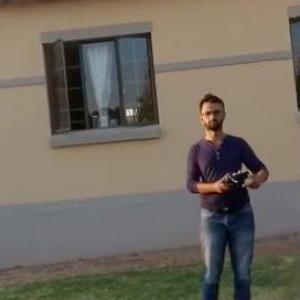follow: (175, 87, 279, 299)
